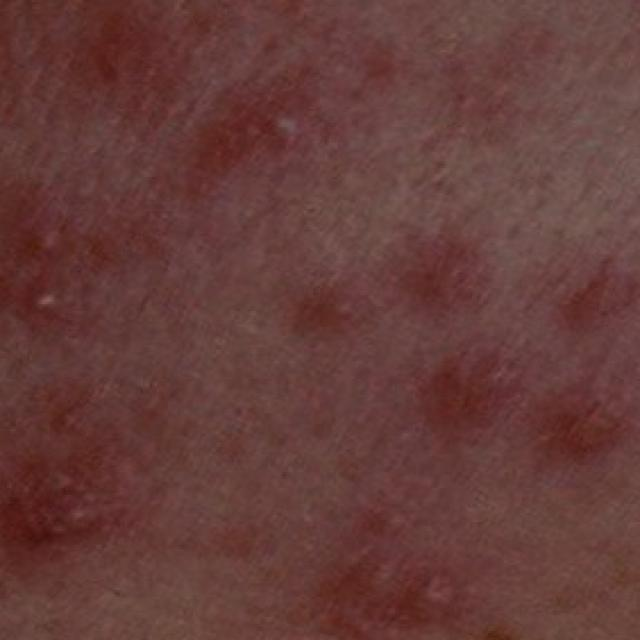acne: (264, 222, 640, 474), (0, 156, 163, 601), (36, 0, 356, 202), (261, 495, 545, 640)
